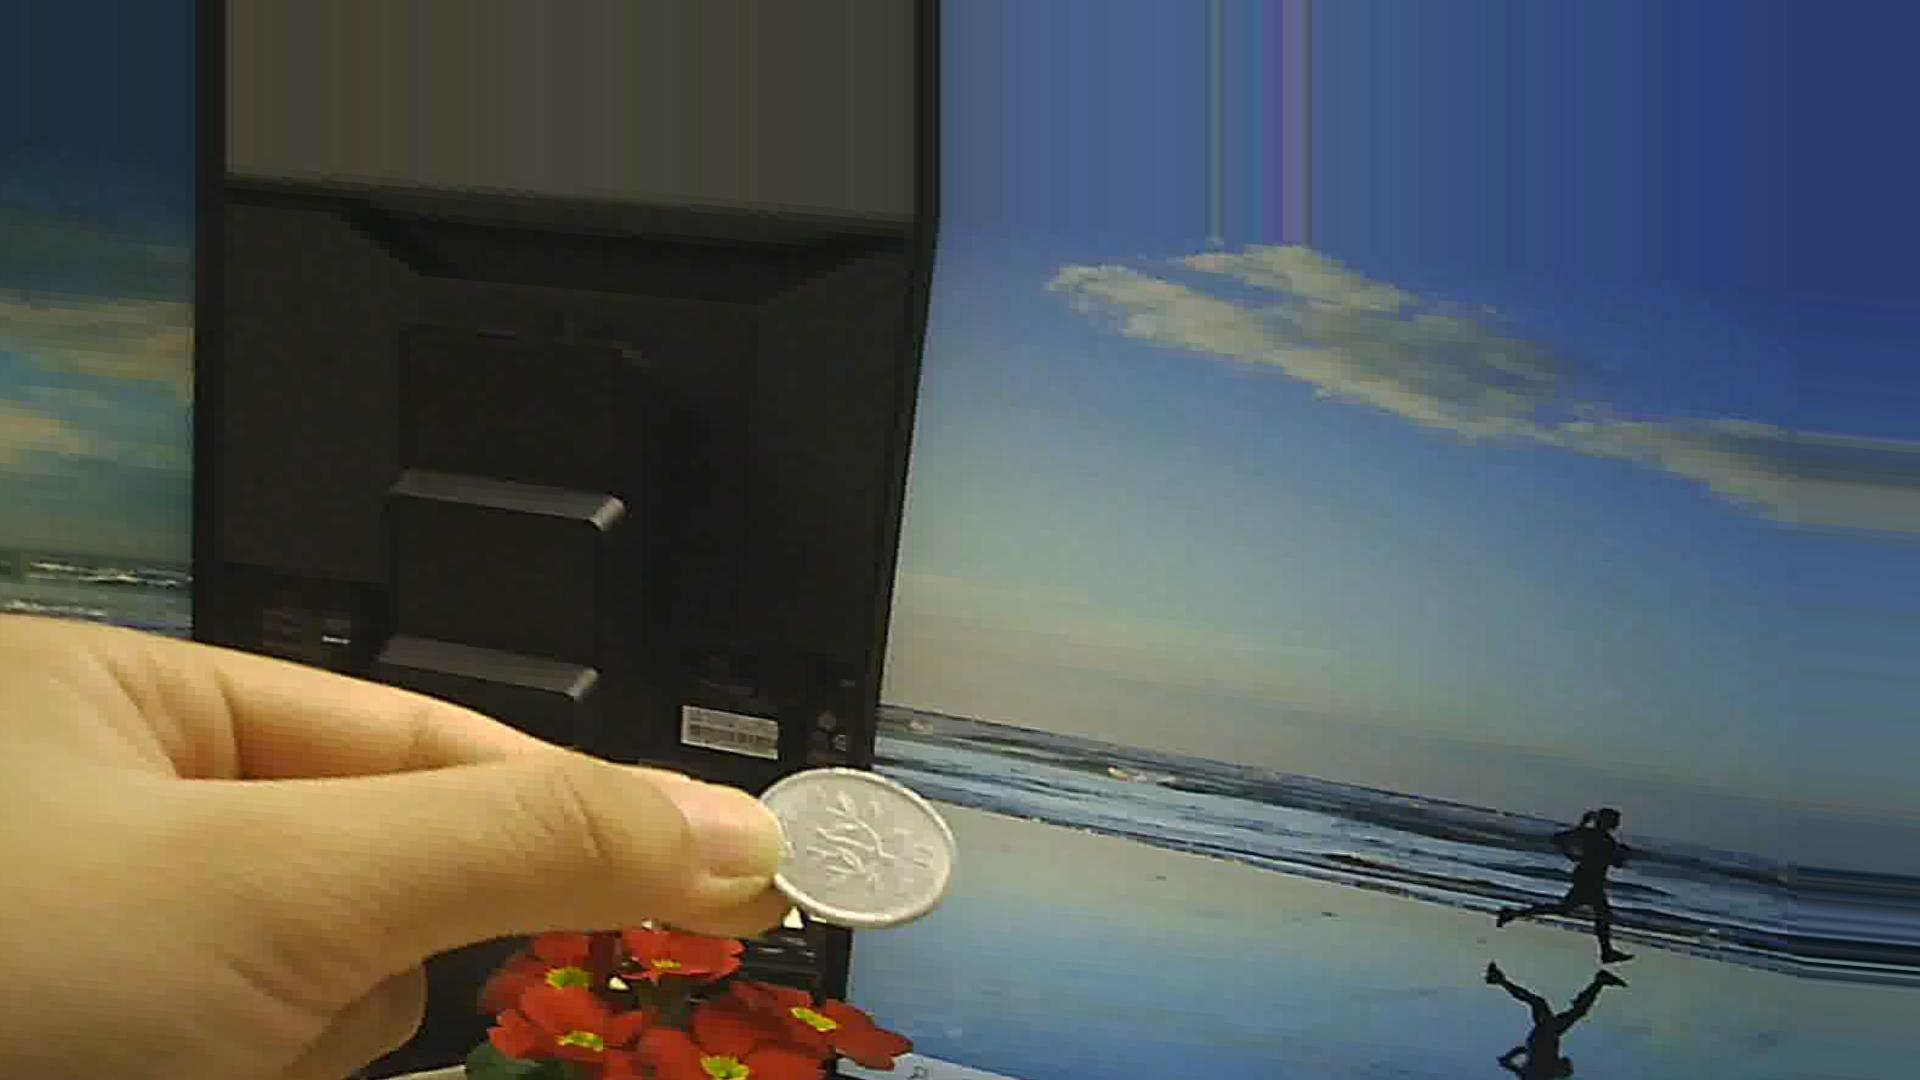1 Yen: (741, 753, 965, 931)
